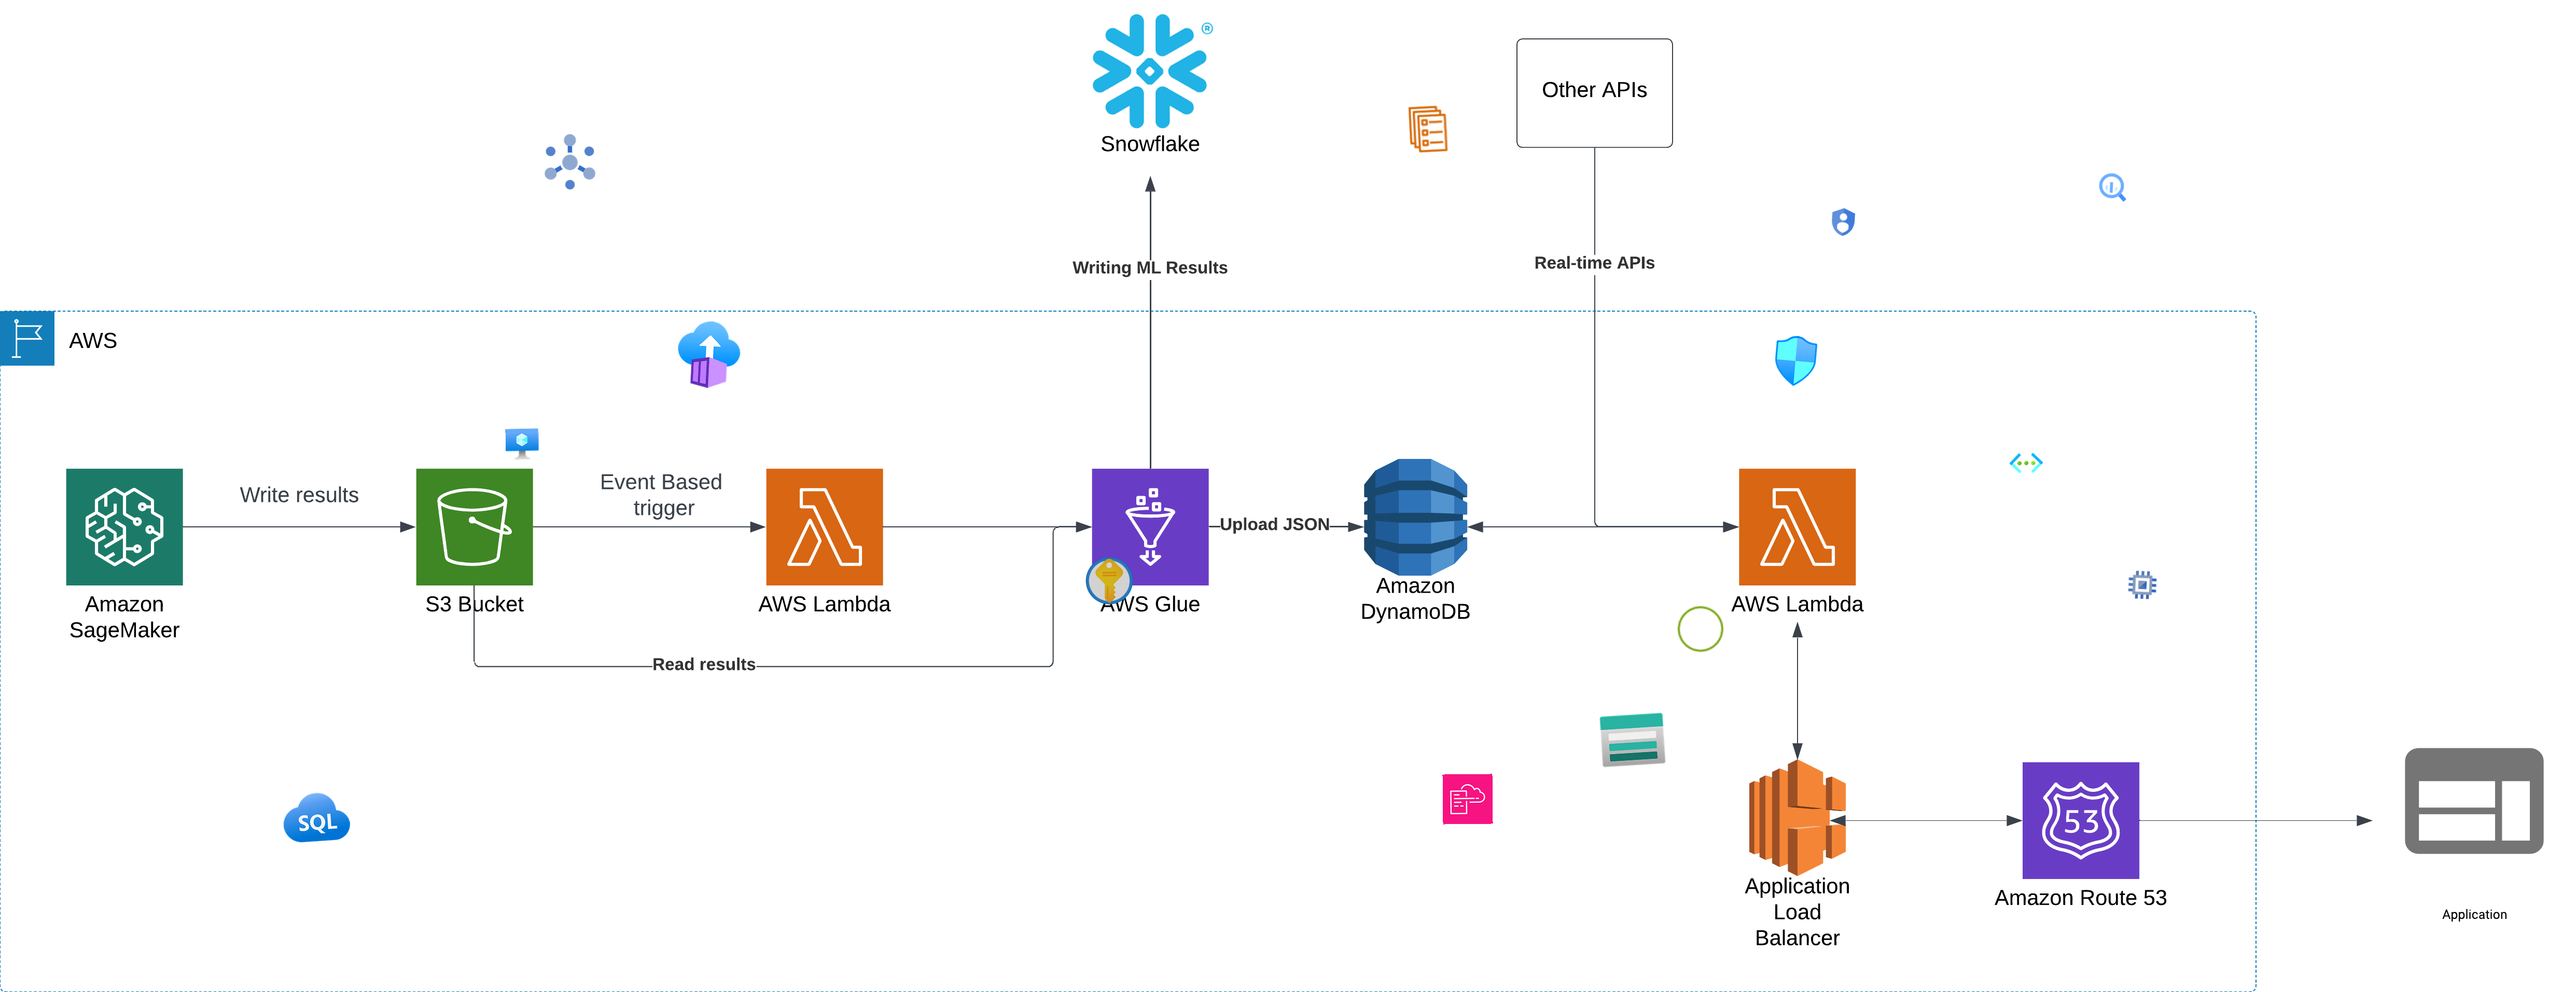aws_cloudformation: (1442, 774, 1493, 824)
aws_elastic_container_service_service: (1401, 103, 1454, 156)
aws_simple_storage_service_object: (1674, 603, 1728, 655)
azure_container_instances: (674, 319, 744, 389)
azure_key_vaults: (1084, 555, 1135, 606)
azure_network_security_groups: (1768, 333, 1822, 388)
azure_sql: (281, 782, 352, 854)
azure_storage_accounts: (1597, 705, 1667, 775)
azure_virtual_machine: (504, 427, 539, 462)
azure_virtual_networks: (2009, 447, 2044, 480)
gcp_bigquery: (2095, 169, 2131, 205)
gcp_compute_engine: (2124, 567, 2160, 603)
gcp_identity_and_access_management: (1825, 204, 1861, 240)
gcp_pubsub: (536, 128, 603, 195)
